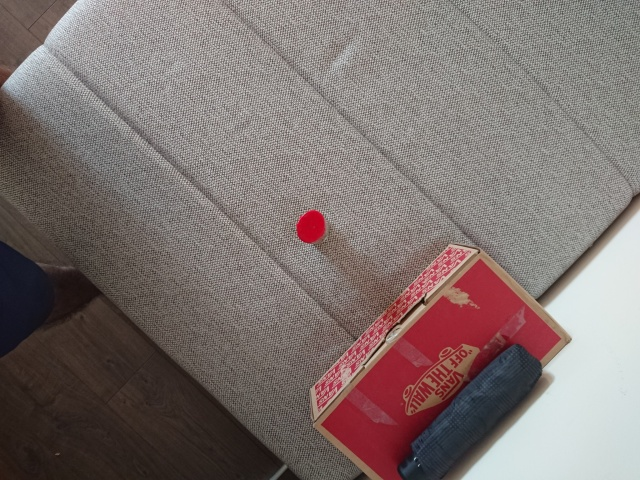Kotanyi Curry Spices Mix 70g: (293, 207, 332, 247)
